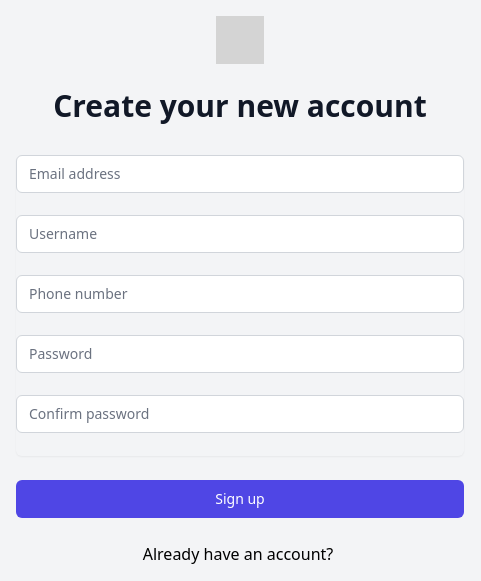
Test: Sign up functionality › Invalid fields › Render invalid password1 error message
In the password field named "password1": x=240, y=354 [16,335,464,373], type "pass"
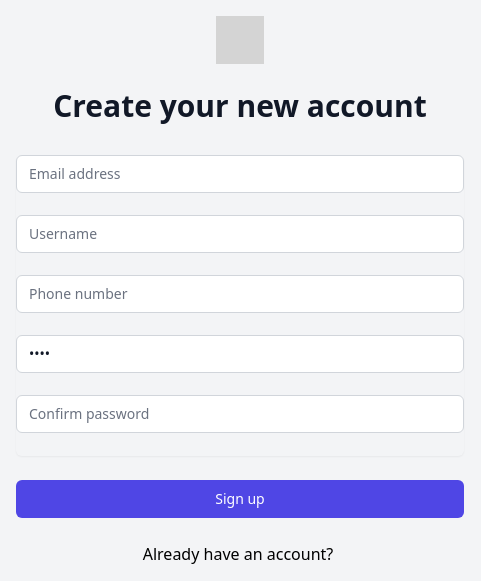
Click the button "Sign up": x=240, y=499 [16,480,464,518]
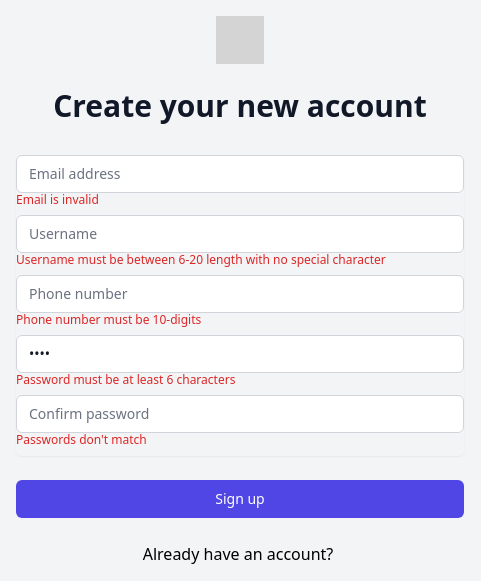
Expected: the text "Password must be at least 6 characters" is shown, [16,371,235,388]
